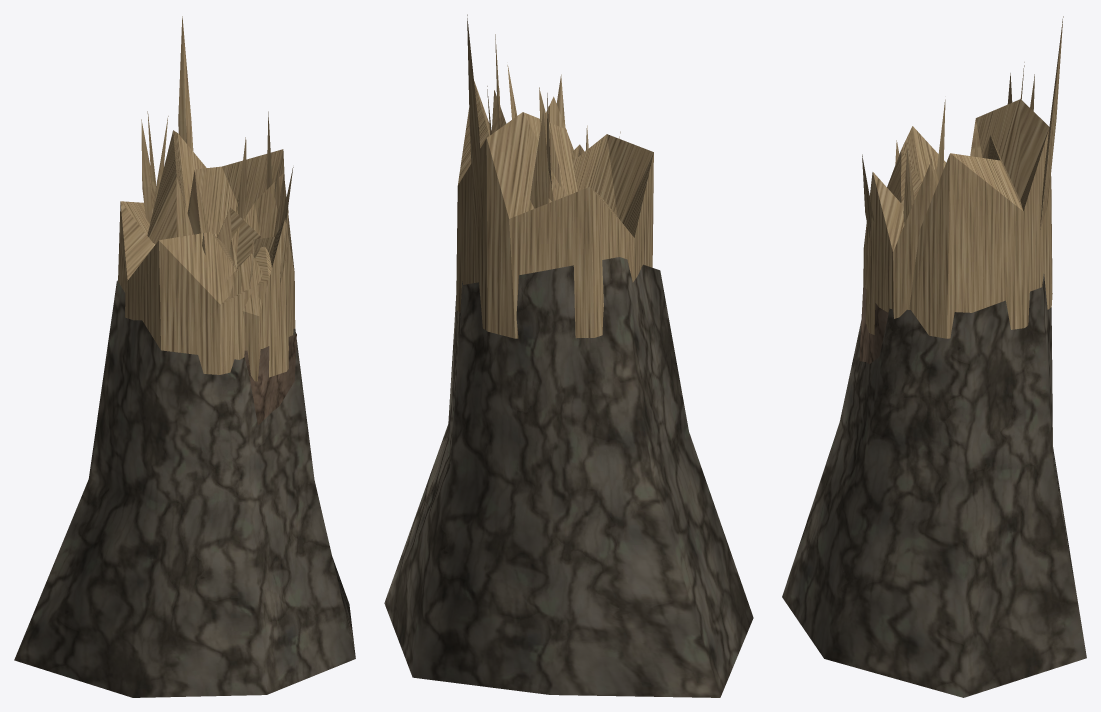
File: trees_x.glb
3 renders of one model, left to right at view 1: azimuth 30°, elevation 25°; view 2: azimuth 150°, elevation 25°; view 3: azimuth 270°, elevation 25°, orthographic. The views are drawn at different scales.
Parts seen in each view (by area): view 1: st_oak@1|bark_0, st_oak@1|bark_1, st_pine@1|bark_1, st_pine@1|bark_5; view 2: st_oak@1|bark_0, st_oak@1|bark_1, st_pine@1|bark_1; view 3: st_oak@1|bark_0, st_oak@1|bark_1, st_pine@1|bark_1, st_pine@1|bark_5.
Boxes of the visible parts, x1,y1,x2,y2 form: st_oak@1|bark_0: (14, 280, 355, 697); st_oak@1|bark_1: (118, 16, 284, 374); st_pine@1|bark_1: (214, 111, 295, 381); st_pine@1|bark_5: (244, 333, 296, 425); st_oak@1|bark_0: (384, 257, 753, 697); st_oak@1|bark_1: (456, 14, 653, 338); st_pine@1|bark_1: (491, 34, 584, 161); st_oak@1|bark_0: (782, 274, 1086, 697); st_oak@1|bark_1: (887, 16, 1063, 338); st_pine@1|bark_1: (862, 99, 945, 334); st_pine@1|bark_5: (859, 286, 888, 363).
Size of the model in its own units: 1.21 by 2.15 by 0.9522.
Materials: 6 (6 with a texture image).
